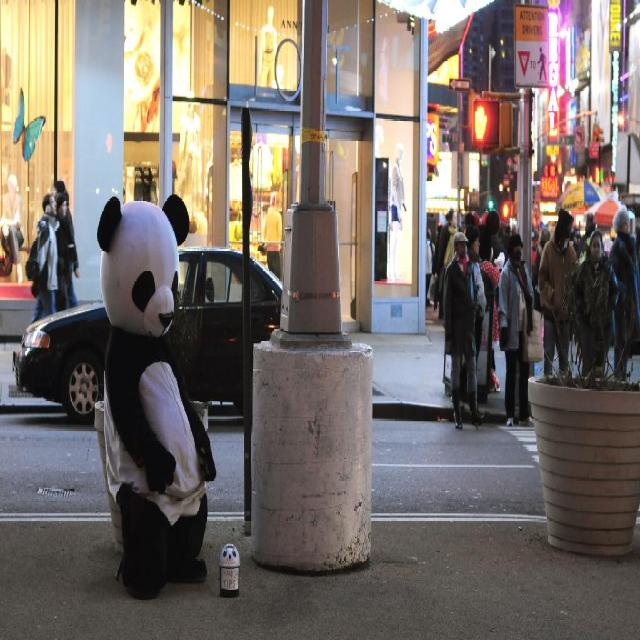panda: (94, 190, 216, 599)
